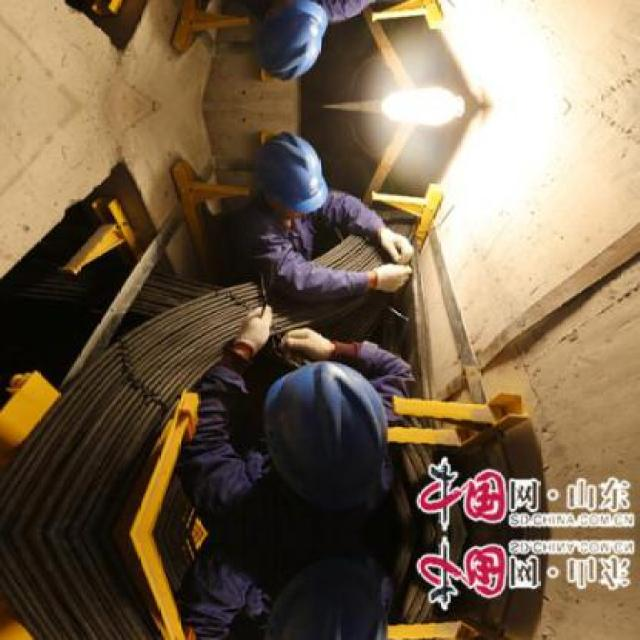helmet: (258, 357, 394, 514), (257, 550, 395, 637), (250, 133, 328, 226), (249, 0, 329, 80)
